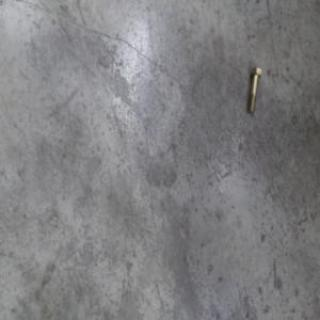Bolttrack_idkeyframe: (245, 62, 259, 110)
